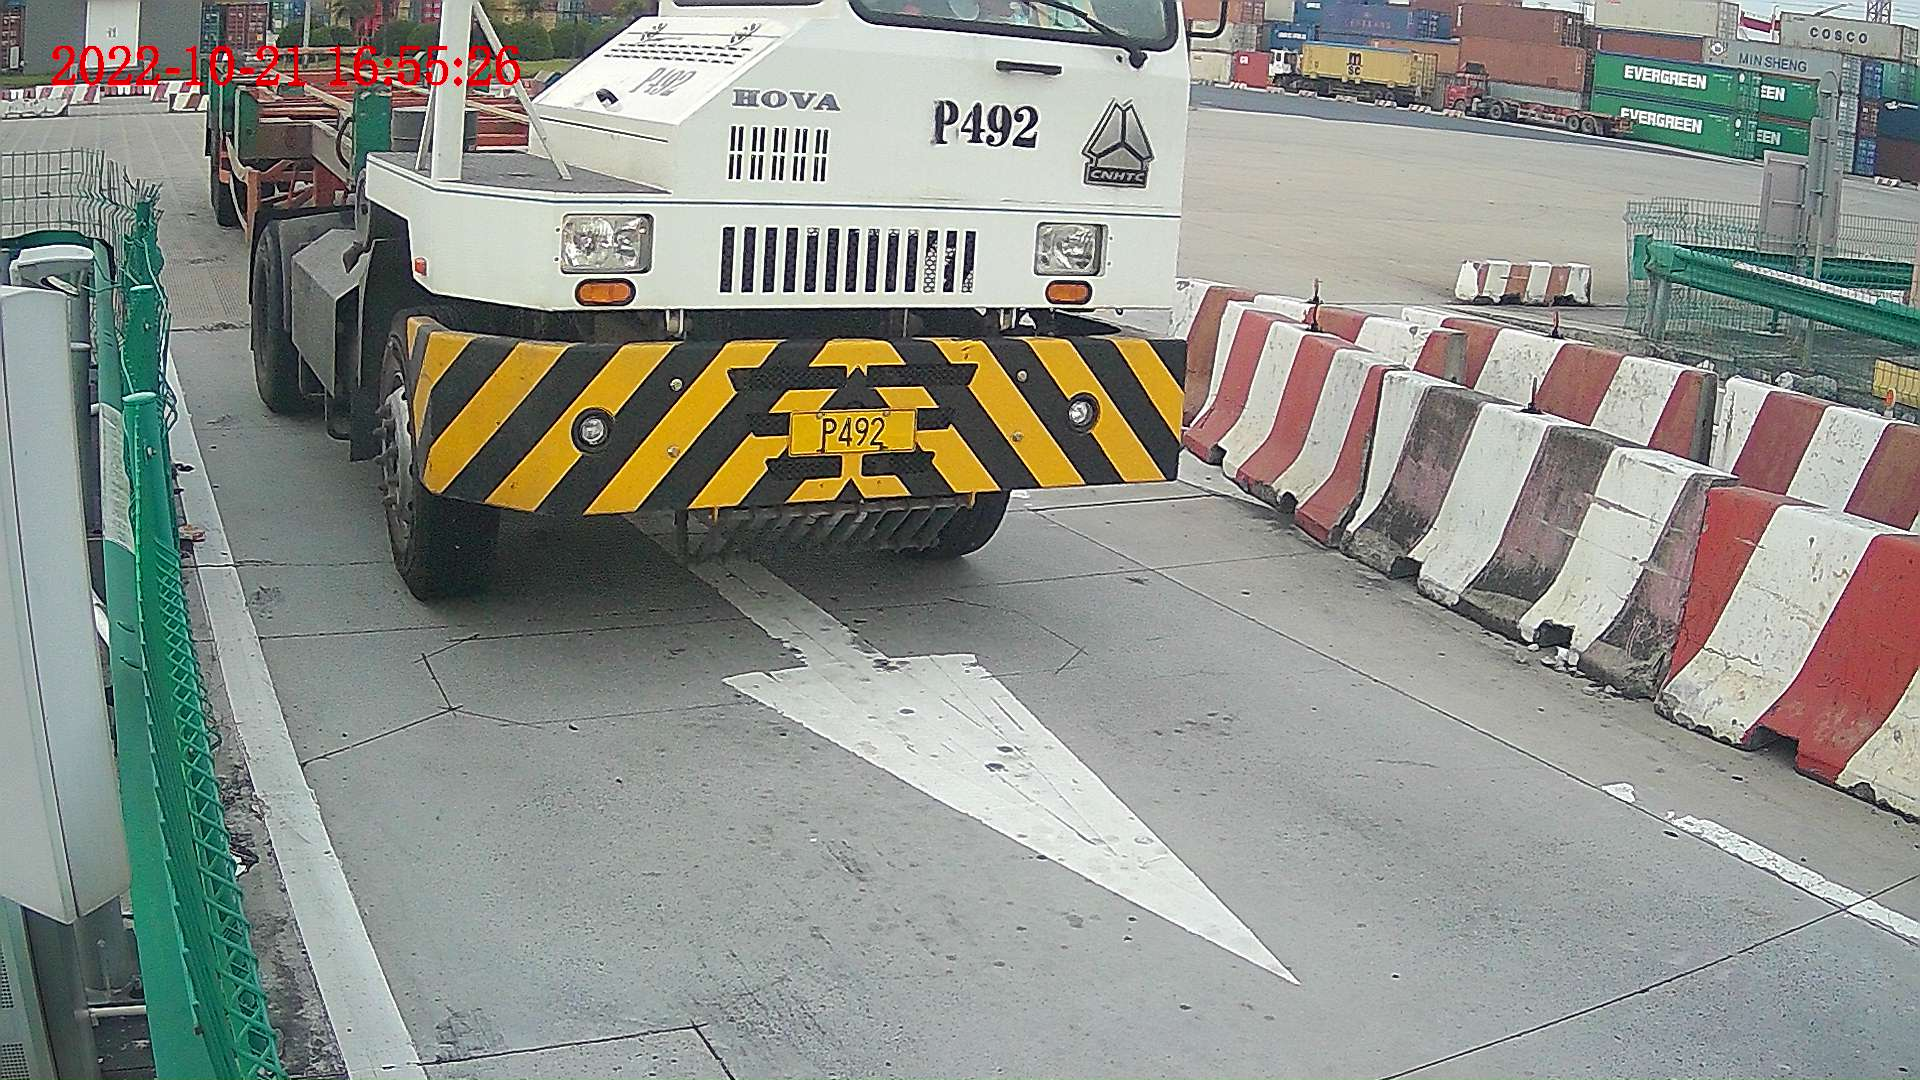head: (348, 1, 1193, 601)
plate: (796, 414, 918, 451)
